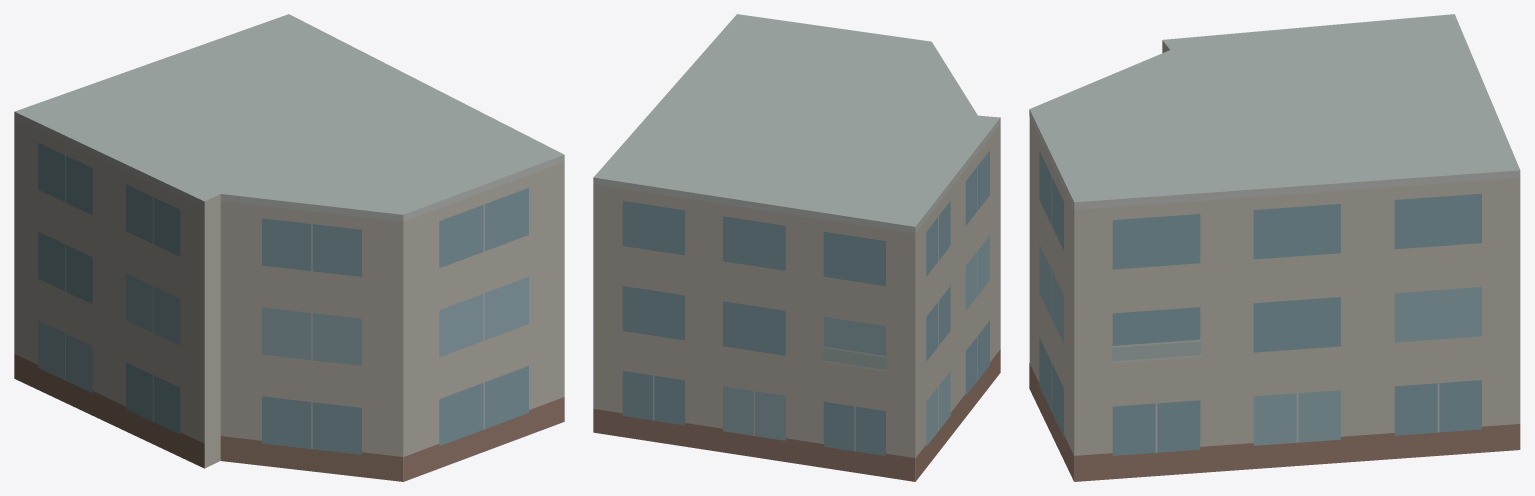
The model's file is survey-upis-32887784.glb.
The picture shows the model from 3 angles, left to right: view 1: azimuth 30°, elevation 25°; view 2: azimuth 150°, elevation 25°; view 3: azimuth 270°, elevation 25°; orthographic projection. The views are drawn at different scales.
Parts seen in each view (by area): view 1: survey-upis-32887784.tmp; view 2: survey-upis-32887784.tmp; view 3: survey-upis-32887784.tmp.
Part boxes in pixels (left/top/right/bottom): survey-upis-32887784.tmp: left=14, top=14, right=564, bottom=481; survey-upis-32887784.tmp: left=593, top=14, right=1000, bottom=481; survey-upis-32887784.tmp: left=1029, top=14, right=1520, bottom=481.
Bounding box in the file's own units: 13.23 × 9.15 × 14.57.
